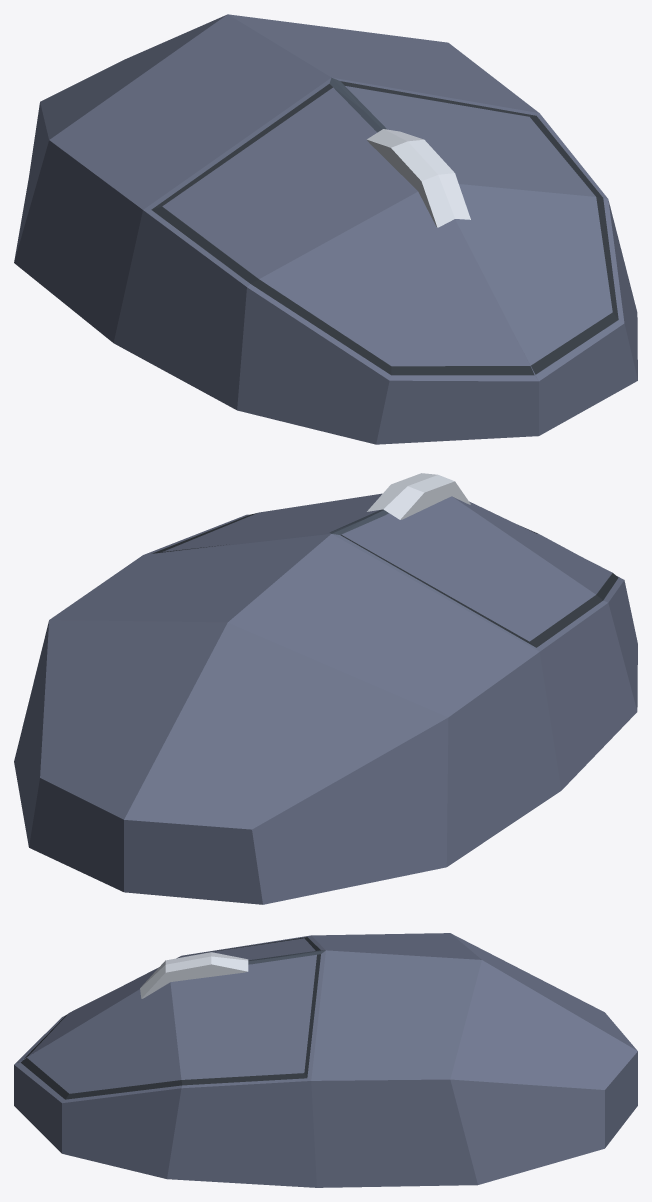
Rendered from Mouse.fbx.
3 renders of one model, top to bottom at view 1: azimuth 30°, elevation 25°; view 2: azimuth 150°, elevation 25°; view 3: azimuth 270°, elevation 25°, orthographic. The views are drawn at different scales.
Parts seen in each view (by area): view 1: Cube; view 2: Cube; view 3: Cube.
Part boxes in pixels (box(x1,y1,x2,y2)): Cube: box(14, 14, 637, 444); Cube: box(14, 473, 637, 904); Cube: box(14, 933, 637, 1187).
Bounding box in the file's own units: 6.23 × 2.75 × 10.
